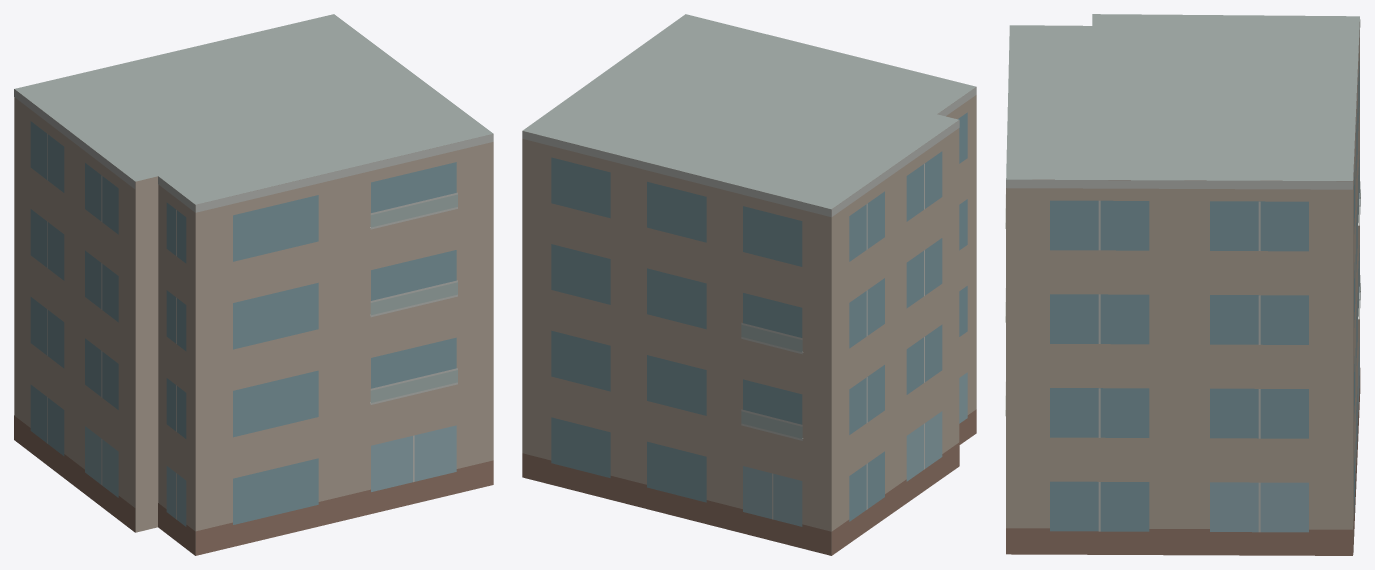
Rendered from survey-upis-32576908.glb.
The picture shows the model from 3 angles, left to right: view 1: azimuth 30°, elevation 25°; view 2: azimuth 150°, elevation 25°; view 3: azimuth 270°, elevation 25°; orthographic projection. The views are drawn at different scales.
Visible parts, largest first — view 1: survey-upis-32576908.tmp; view 2: survey-upis-32576908.tmp; view 3: survey-upis-32576908.tmp.
Boxes of the visible parts, bbox=[...] form: survey-upis-32576908.tmp: bbox=[14, 14, 493, 555]; survey-upis-32576908.tmp: bbox=[522, 14, 976, 555]; survey-upis-32576908.tmp: bbox=[1005, 14, 1360, 555].
Size of the model in its own units: 10.19 by 10.65 by 9.17.
